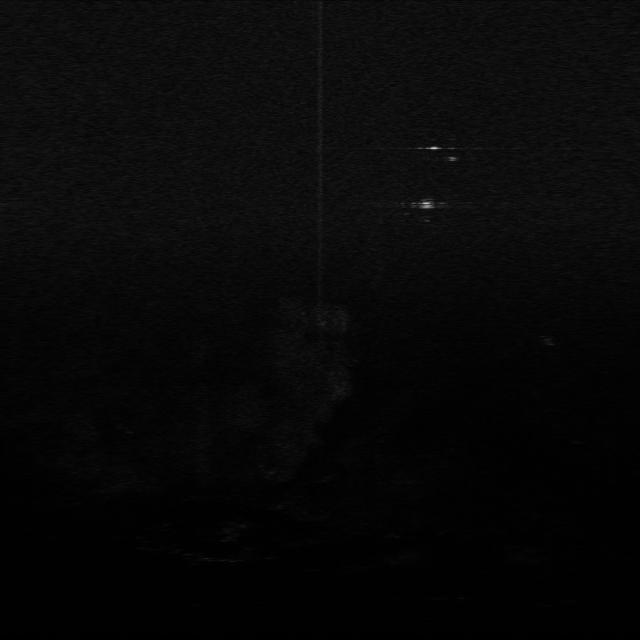rov: (414, 196, 437, 213)
